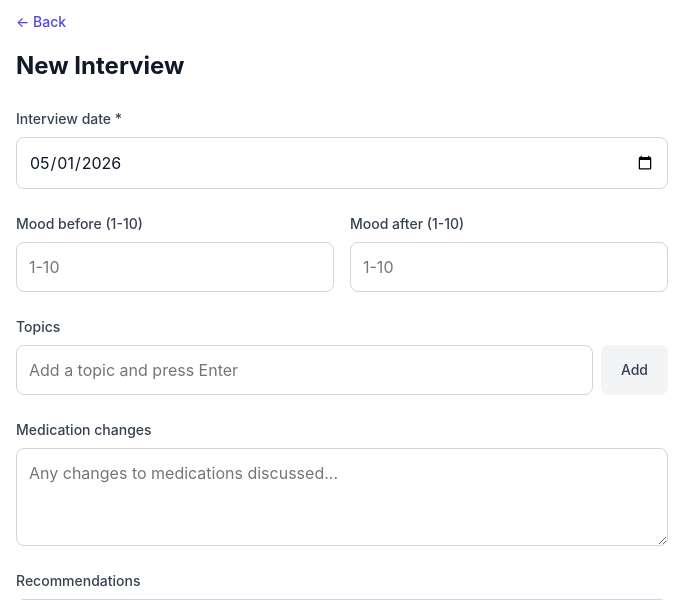
Test: InterviewFormView › adds a topic on Enter key
Type "sleep" into the field with id "topic-input".
click(304, 370); type("sleep")  # box [16,345,593,395]
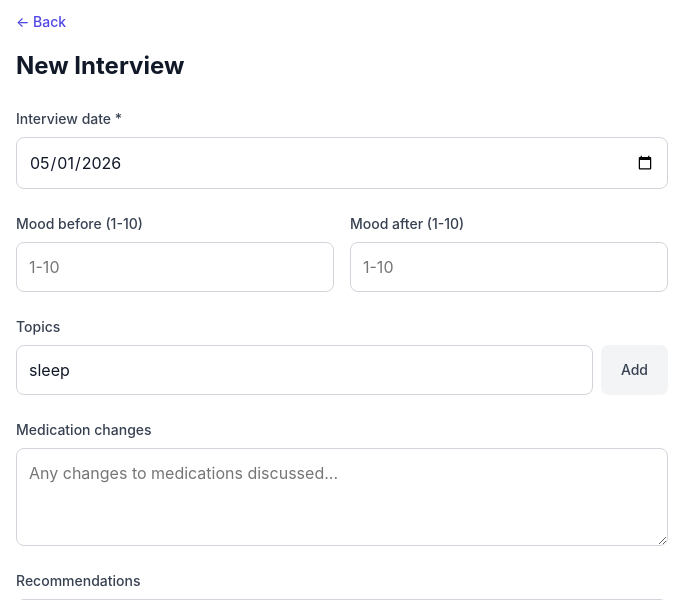
Press Enter in the field with id "topic-input", box [16,345,593,395]
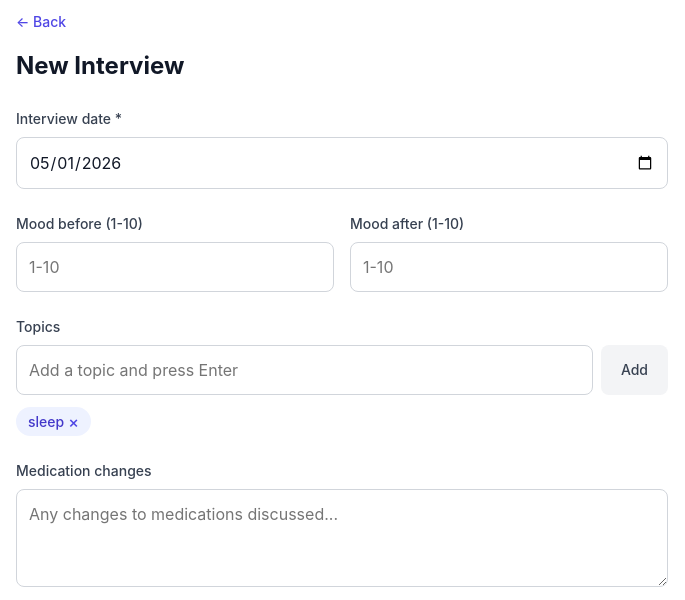
Now the number of elements with class "topic-chip" is 1, box [16,407,91,436]
Now the text "sleep" is shown, box [28,413,64,430]
